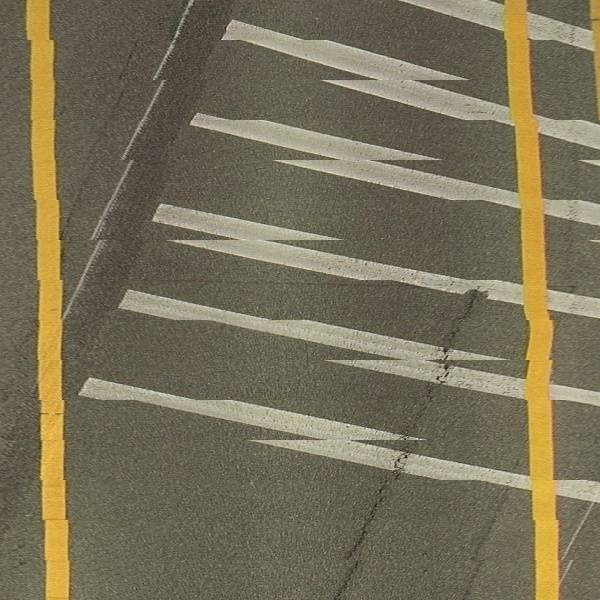road_damage: (333, 280, 483, 600), (90, 38, 201, 271), (336, 473, 395, 599)
